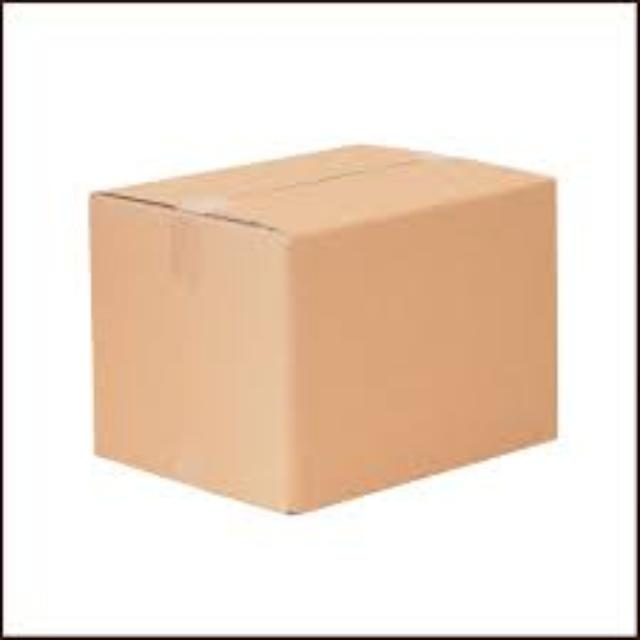cardboard paper: (88, 142, 552, 506)
